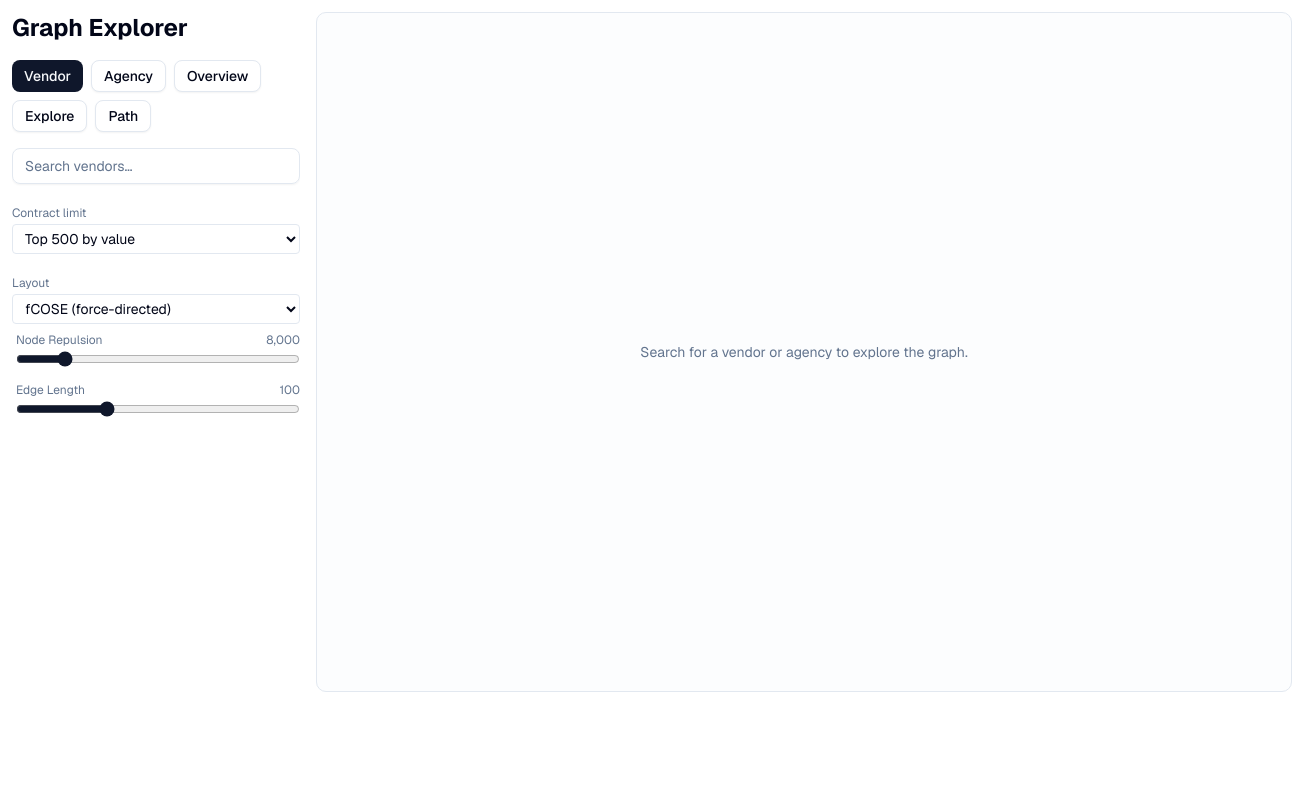
it: GraphPage › agency dropdown shows agency code in parentheses
Click the button "Agency" at (128, 76), box top-left (91, 60), bottom-right (166, 92)
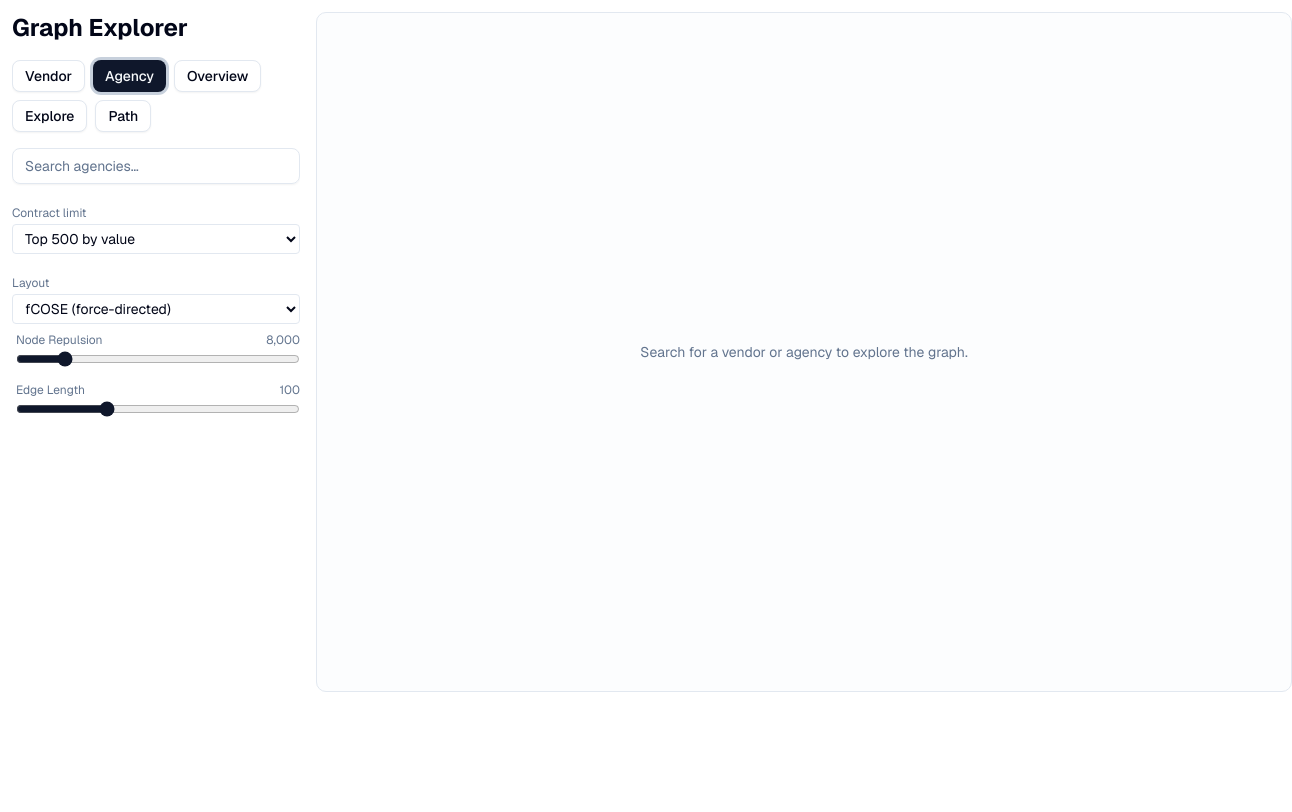
Type "dod" into the field with placeholder "Search agencies…" at (156, 166), box top-left (12, 148), bottom-right (300, 184)
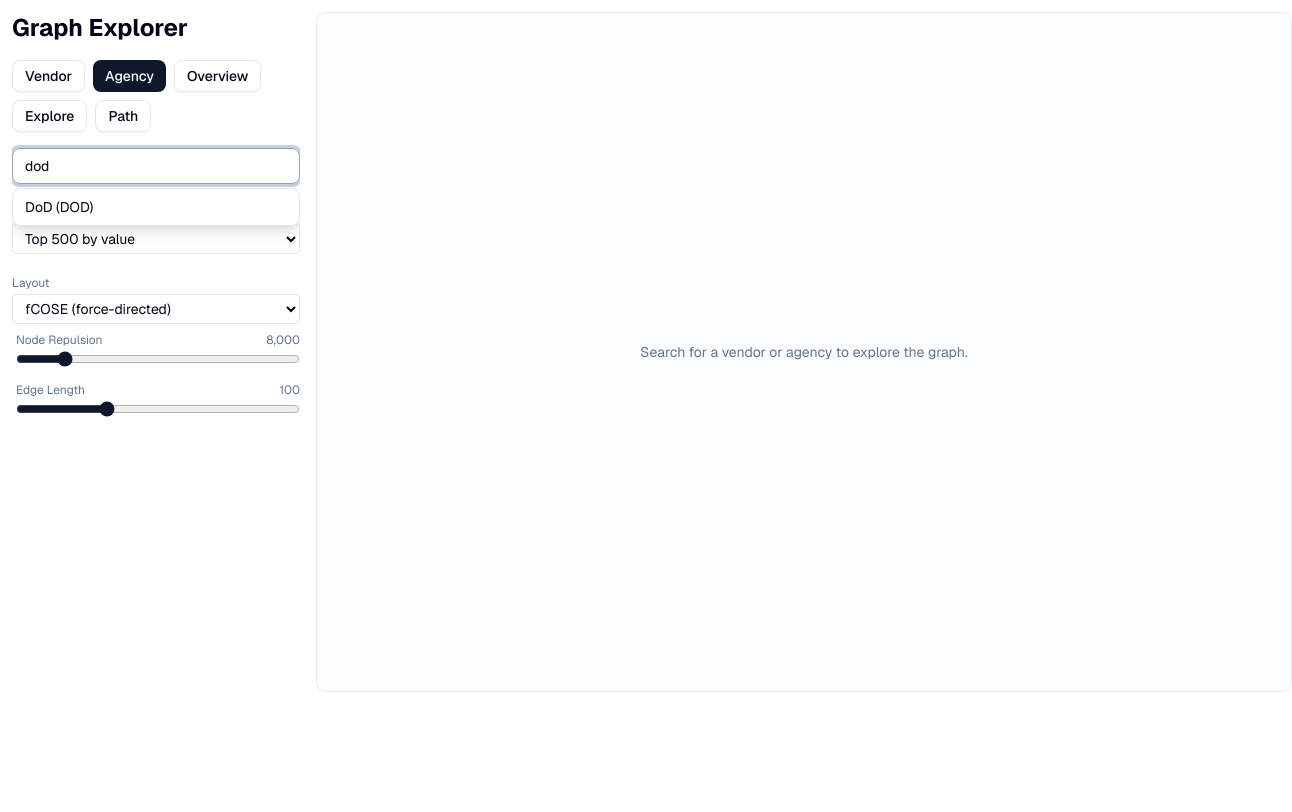
Expected: the list item "DoD (DOD)" is shown, top-left (25, 198), bottom-right (93, 216)
